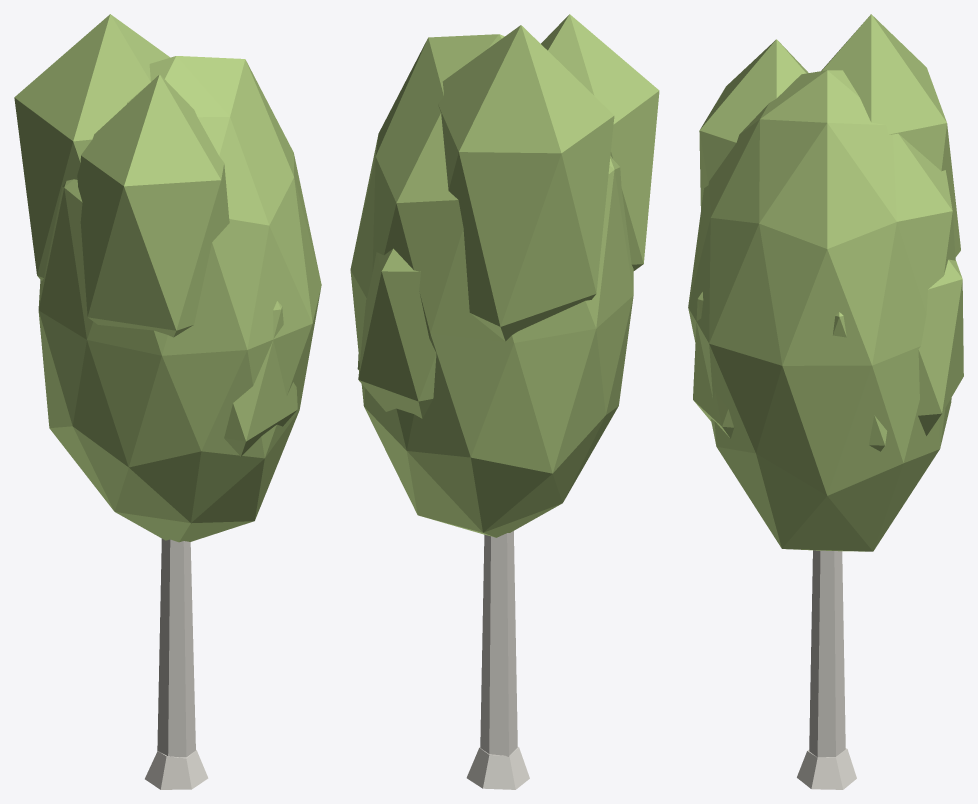
File: tree_birch_a.glb
3 views of the same model, side by side, from view 1: azimuth 30°, elevation 25°; view 2: azimuth 150°, elevation 25°; view 3: azimuth 270°, elevation 25° (orthographic). The views are drawn at different scales.
Parts seen in each view (by area): view 1: tree_birch_a; view 2: tree_birch_a; view 3: tree_birch_a.
Boxes of the visible parts, box(x1,y1,x2,y2) form: tree_birch_a: box(14, 14, 321, 789); tree_birch_a: box(350, 14, 659, 789); tree_birch_a: box(688, 14, 963, 789).
Size of the model in its own units: 2.15 by 6.49 by 2.18.
